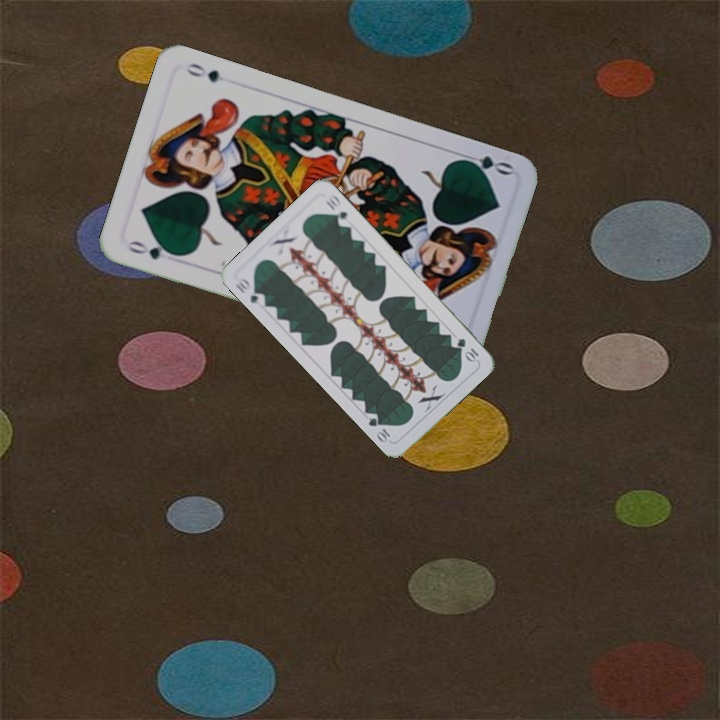G10: (231, 273, 268, 309), (453, 334, 482, 365)
GO: (455, 149, 515, 179), (123, 236, 182, 265)
